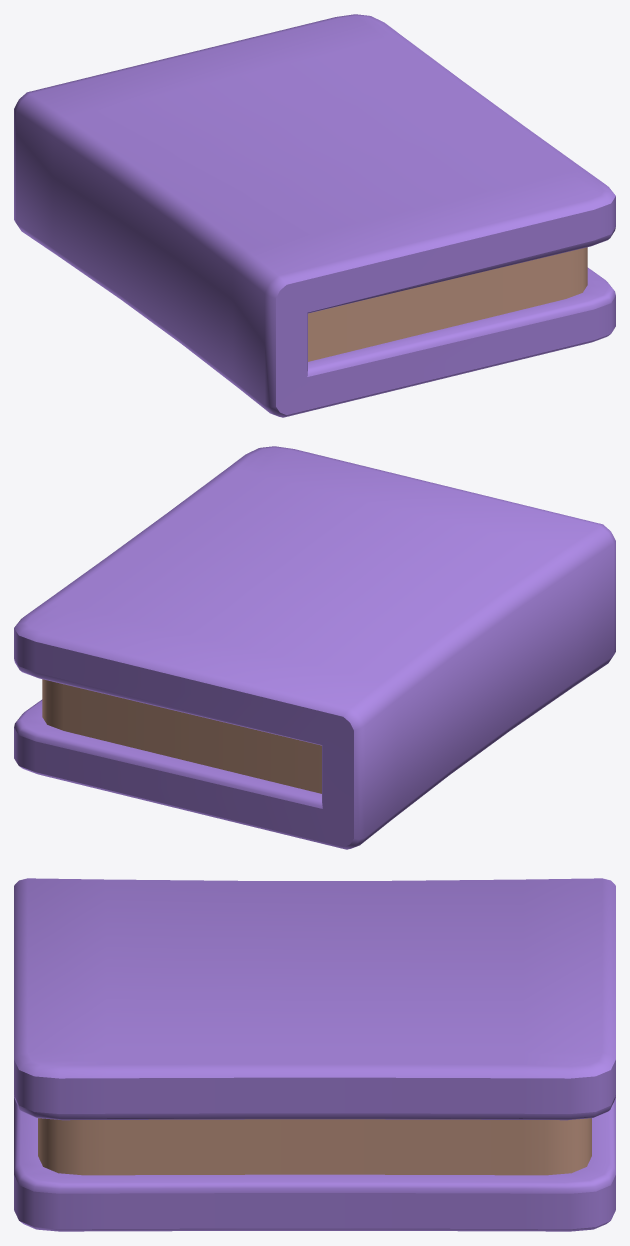
Rendered from Book_001.FBX.
3 renders of one model, top to bottom at view 1: azimuth 30°, elevation 25°; view 2: azimuth 150°, elevation 25°; view 3: azimuth 270°, elevation 25°, orthographic. The views are drawn at different scales.
Visible parts, largest first — view 1: Book_001; view 2: Book_001; view 3: Book_001.
Part boxes in pixels (x1=…): Book_001: x1=14, y1=14, x2=615, y2=417; Book_001: x1=14, y1=446, x2=615, y2=849; Book_001: x1=14, y1=878, x2=615, y2=1231.
Bounding box in the file's own units: 8.24 × 3.1 × 10.38.
